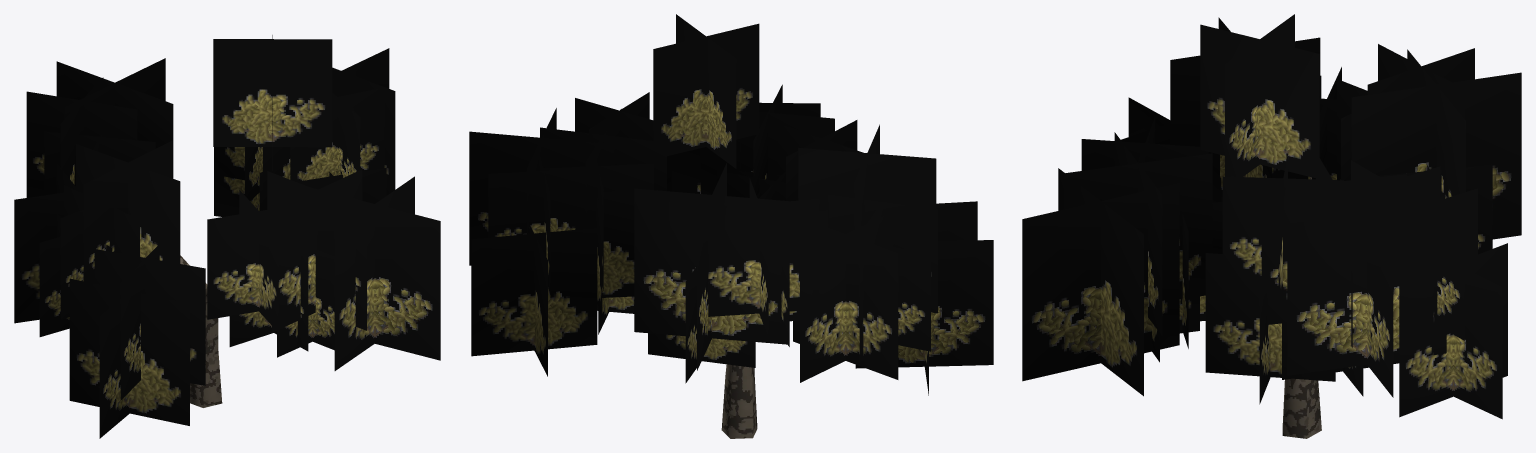
File: oak0_dry_lod1.fbx
3 views of the same model, side by side, from view 1: azimuth 30°, elevation 25°; view 2: azimuth 150°, elevation 25°; view 3: azimuth 270°, elevation 25° (orthographic). The views are drawn at different scales.
Parts seen in each view (by area): view 1: oak0_dry_lod1; view 2: oak0_dry_lod1; view 3: oak0_dry_lod1.
Part boxes in pixels (x1=…): oak0_dry_lod1: x1=14, y1=35, x2=440, y2=438; oak0_dry_lod1: x1=469, y1=14, x2=993, y2=438; oak0_dry_lod1: x1=1022, y1=14, x2=1521, y2=438.
Size of the model in its own units: 12.18 by 10.5 by 11.31.
Materials: 2 (2 with a texture image).
